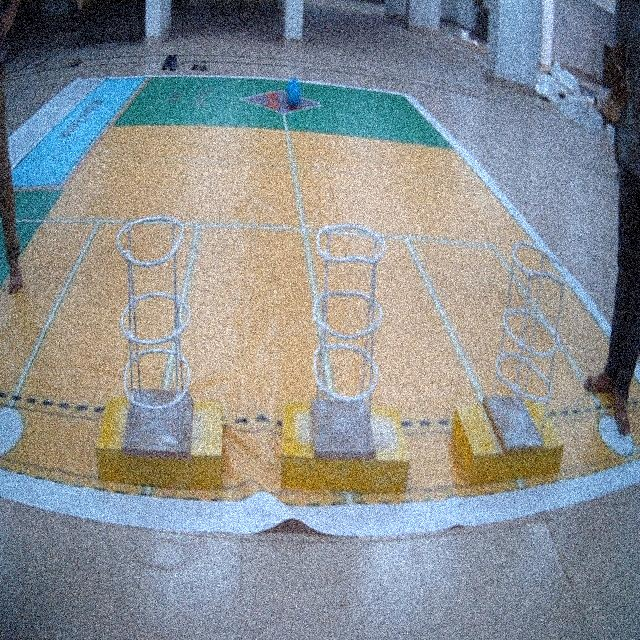silo: (118, 217, 192, 457), (483, 238, 566, 446), (315, 218, 383, 459)
